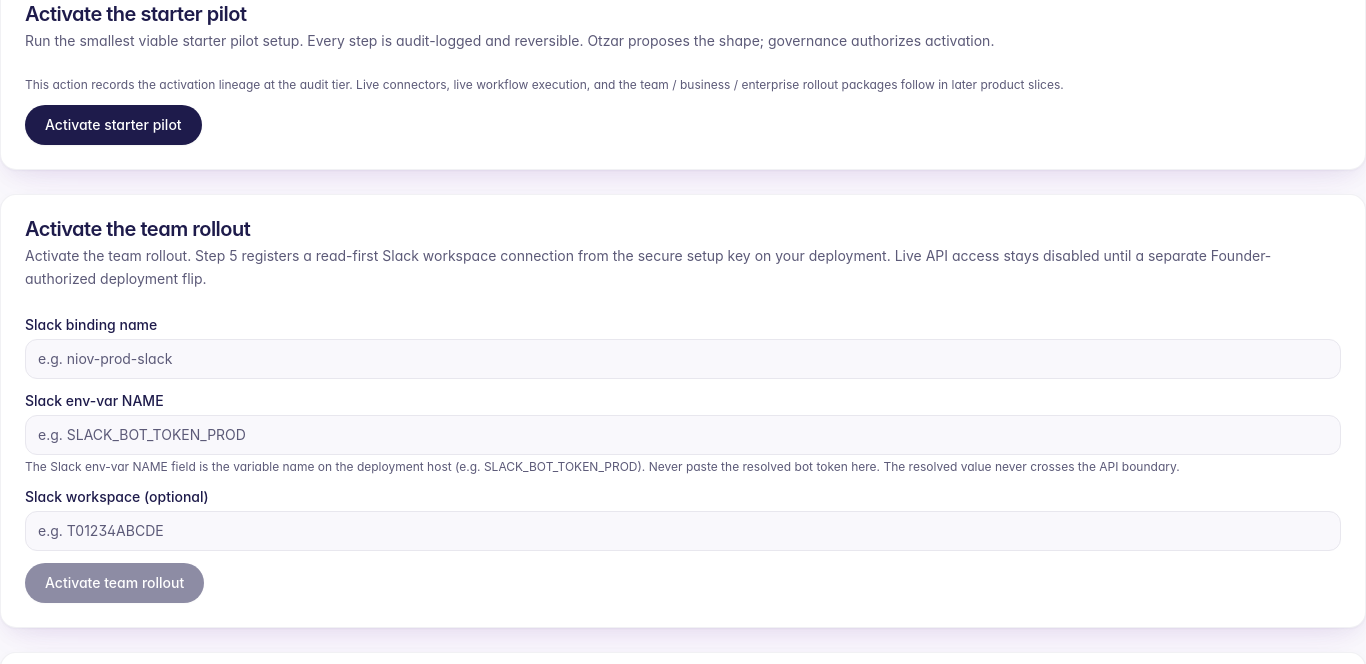
Test: D6 team — successful activation › renders the team-scope memory label at step 3
(page scrolled)
Type "niov-prod-slack" into the field with test id "team-slack-display-name-input" at (683, 358), box [25, 338, 1341, 378]
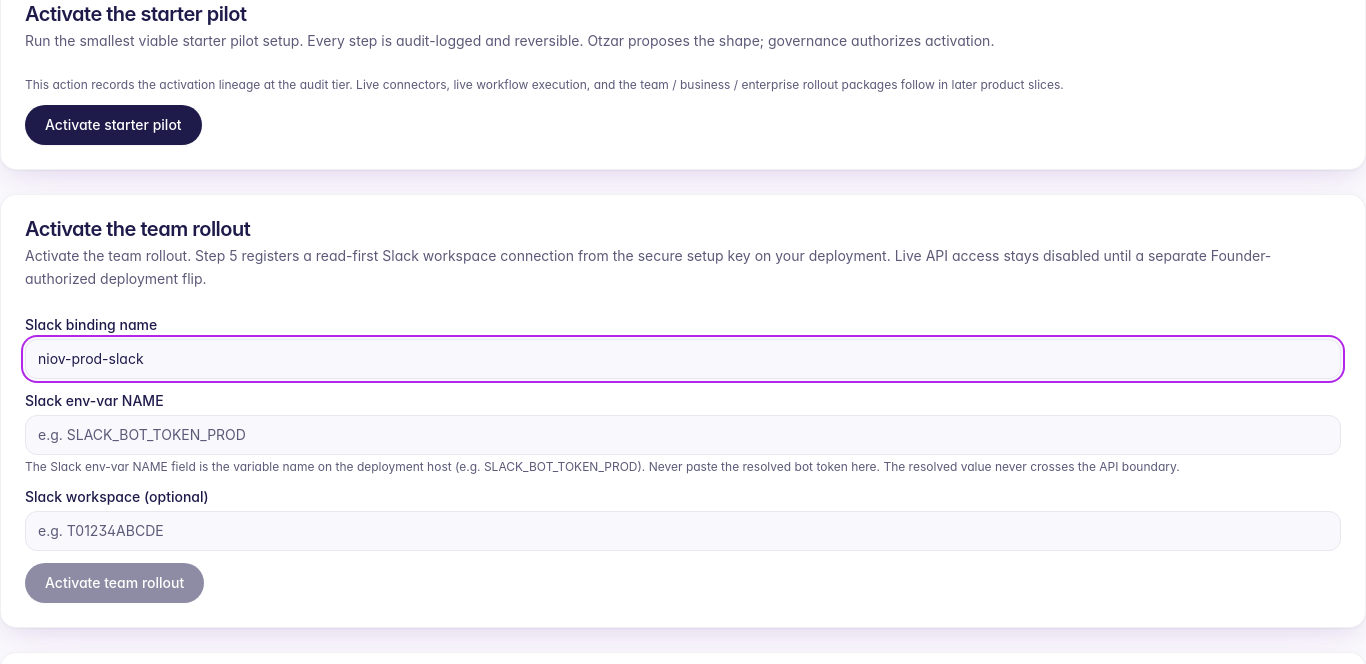
Type "SLACK_BOT_TOKEN_PROD" into the field with test id "team-slack-secret-ref-input" at (683, 434), box [25, 414, 1341, 454]
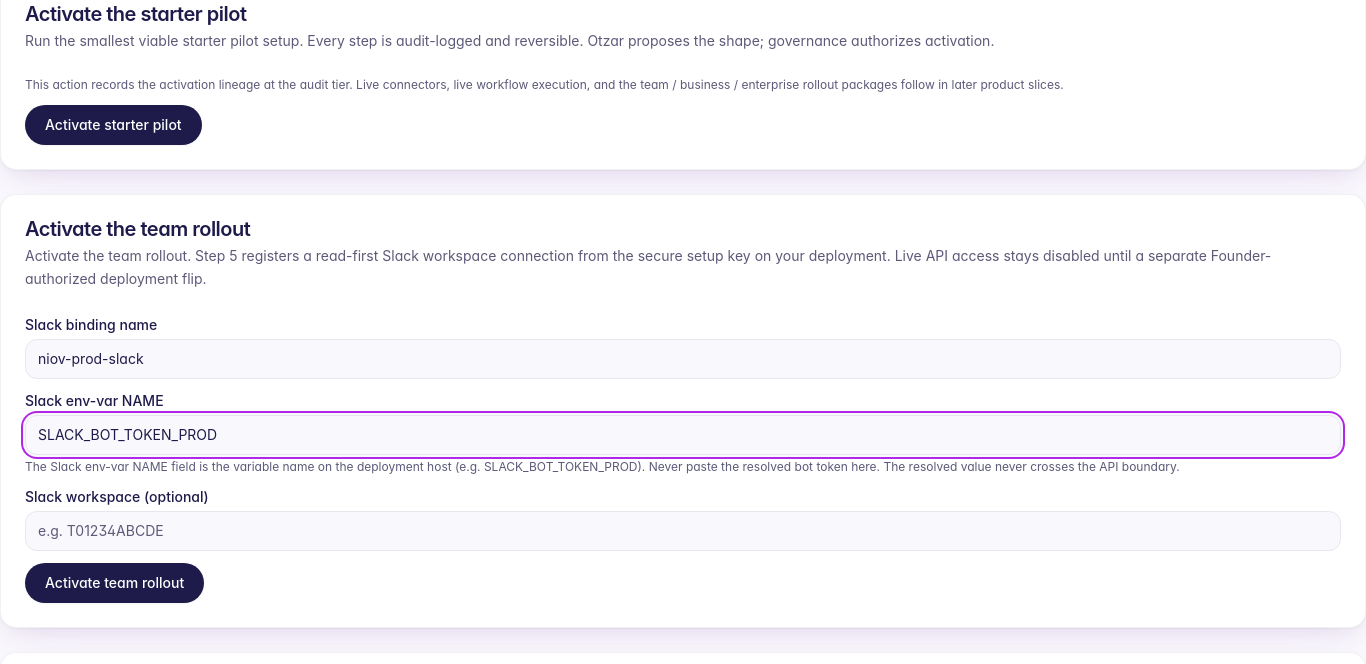
Click the button with test id "activate-team-button" at (115, 582), box [25, 562, 204, 602]
(page scrolled)
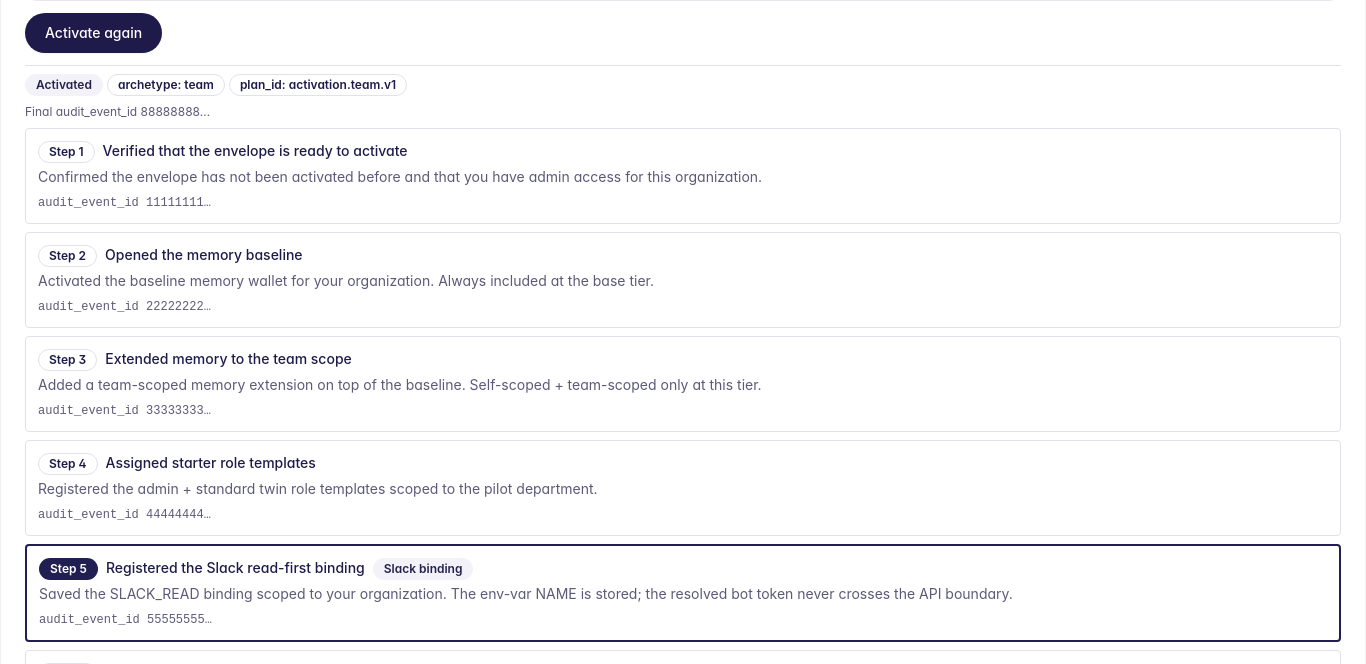
Now the text "Extended memory to the team scope" is shown, box [105, 348, 352, 368]
